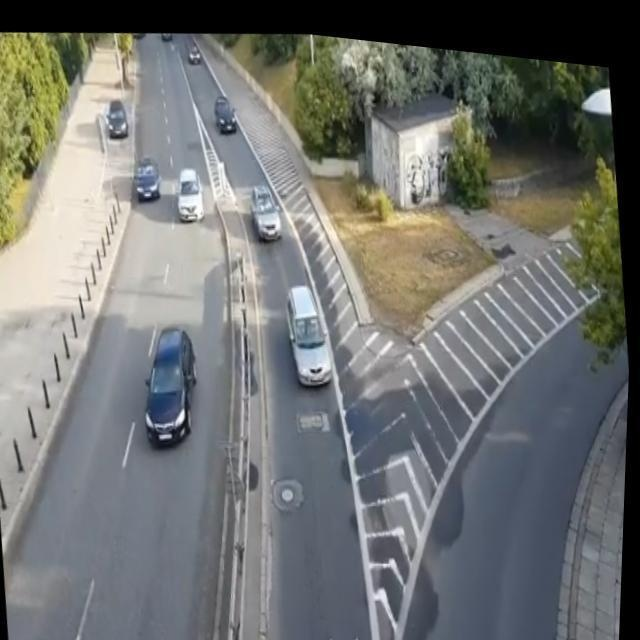Car: (132, 310, 213, 450), (279, 270, 343, 390), (242, 169, 290, 244), (173, 161, 212, 234), (126, 161, 166, 212), (96, 94, 135, 146), (206, 96, 247, 144), (183, 44, 207, 78)
